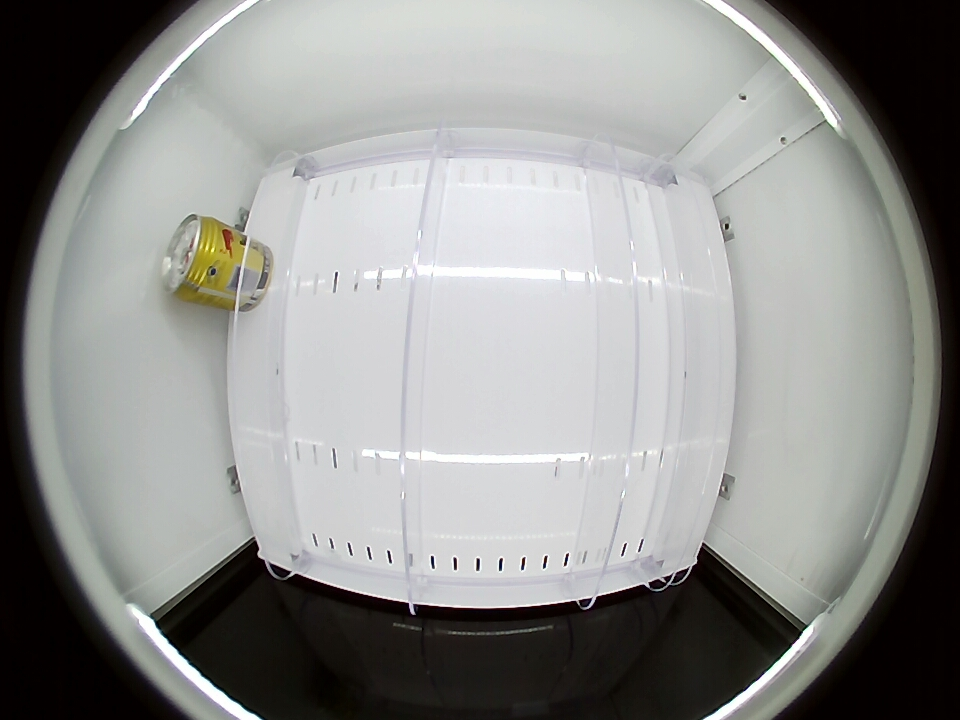hongniu2: (161, 214, 226, 301)
